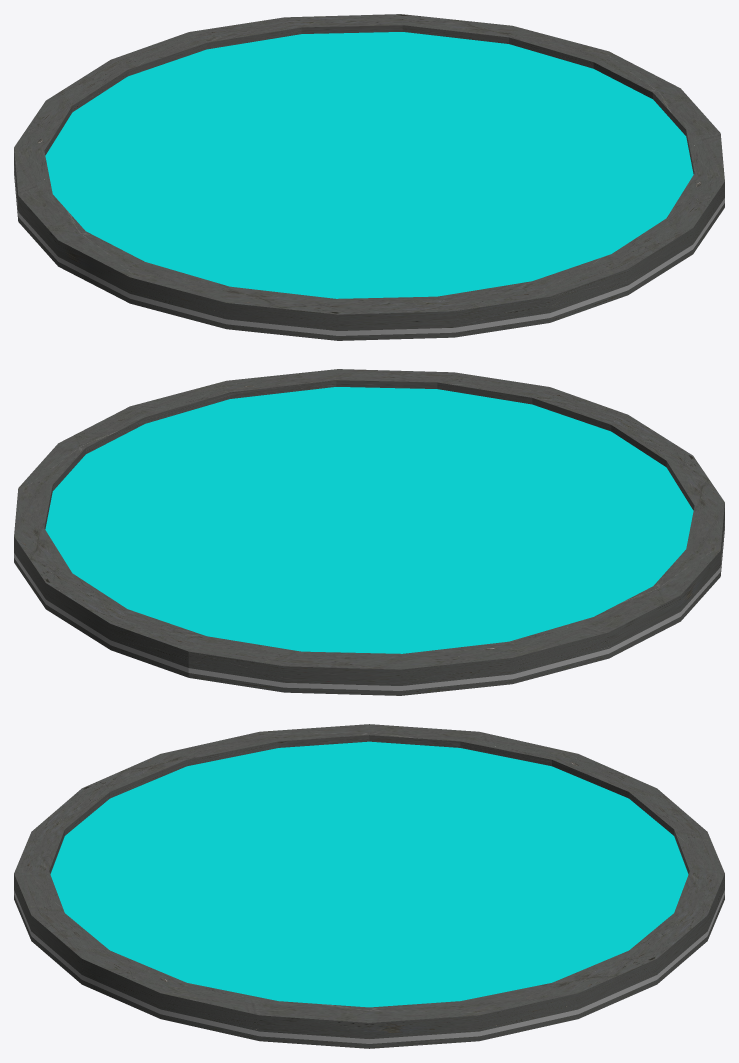
Rendered from CircleBench.fbx.
3 views of the same model, one above another, from view 1: azimuth 30°, elevation 25°; view 2: azimuth 150°, elevation 25°; view 3: azimuth 270°, elevation 25° (orthographic).
Visible parts, largest first — view 1: Water, Bench; view 2: Water, Bench; view 3: Water, Bench.
Boxes of the visible parts, x1,y1,x2,y2 form: Water: (45, 32, 693, 298); Bench: (14, 14, 724, 340); Water: (45, 387, 693, 653); Bench: (14, 369, 724, 695); Water: (50, 741, 688, 1007); Bench: (14, 724, 724, 1048).
Bounding box in the file's own units: 1206 × 57.22 × 1212.
Materials: 3 (1 with a texture image).
